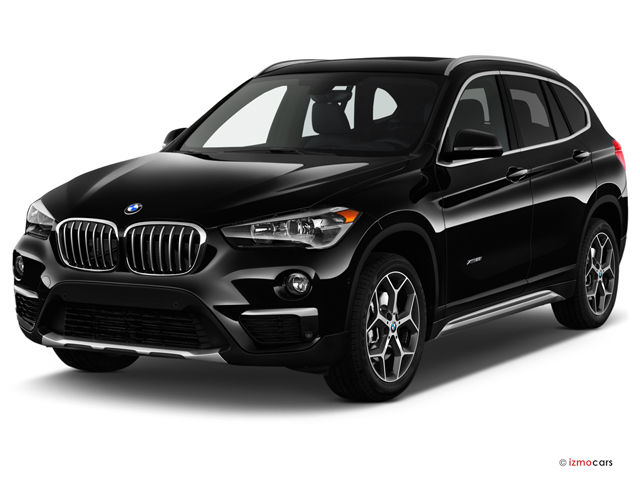bmw: (4, 48, 634, 413)
